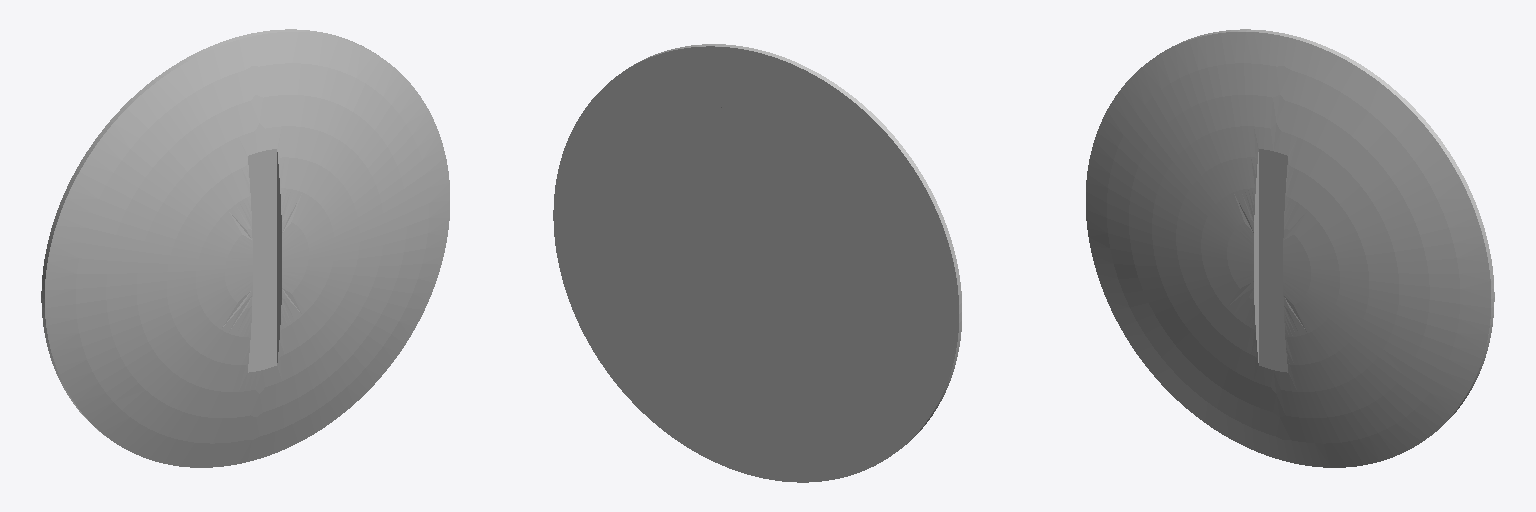
The model's file is screw_FRONT2.obj.
3 views of the same model, side by side, from view 1: azimuth 30°, elevation 25°; view 2: azimuth 150°, elevation 25°; view 3: azimuth 330°, elevation 25° (orthographic).
Parts seen in each view (by area): view 1: screw_FRONT2; view 2: screw_FRONT2; view 3: screw_FRONT2.
Boxes of the visible parts, <box> form: screw_FRONT2: <box>41,29,449,467</box>; screw_FRONT2: <box>553,44,961,482</box>; screw_FRONT2: <box>1086,29,1494,467</box>.
Bounding box in the file's own units: 11 × 11 × 1.09.